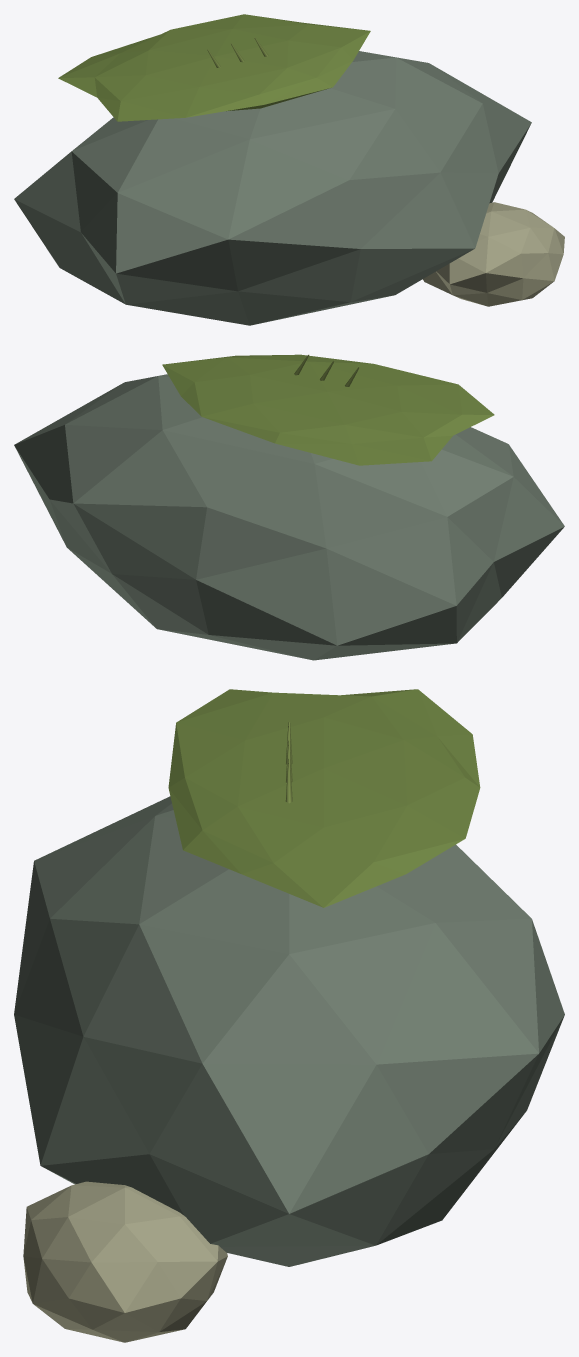
File: moss_boulder.glb
3 views of the same model, one above another, from view 1: azimuth 30°, elevation 25°; view 2: azimuth 150°, elevation 25°; view 3: azimuth 270°, elevation 25° (orthographic). The views are drawn at different scales.
Parts seen in each view (by area): view 1: stone_145, moss_146, lightStone_147; view 2: stone_145, moss_146; view 3: stone_145, moss_146, lightStone_147.
Part boxes in pixels (bbox=[...]): stone_145: bbox=[14, 51, 531, 325]; moss_146: bbox=[58, 14, 370, 121]; lightStone_147: bbox=[423, 202, 564, 306]; stone_145: bbox=[14, 374, 564, 660]; moss_146: bbox=[162, 354, 494, 465]; stone_145: bbox=[14, 796, 564, 1266]; moss_146: bbox=[168, 689, 480, 907]; lightStone_147: bbox=[23, 1181, 227, 1342].
Bounding box in the file's own units: 1.97 × 1.08 × 1.27.
